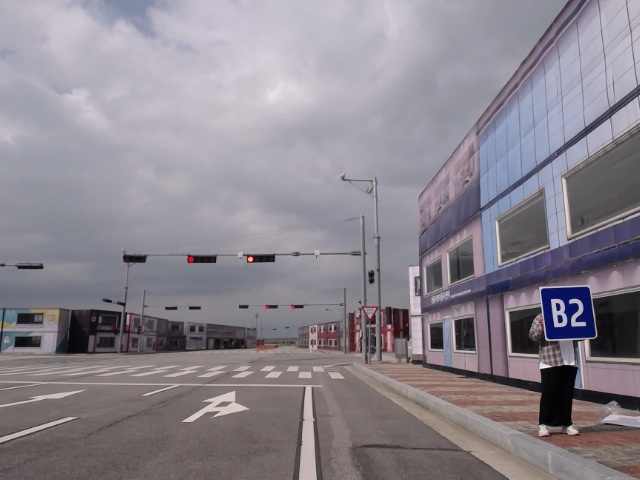delivery_b2: (537, 284, 599, 343)
red_4: (244, 251, 278, 265), (186, 253, 218, 265), (289, 303, 307, 310), (263, 304, 280, 310)
